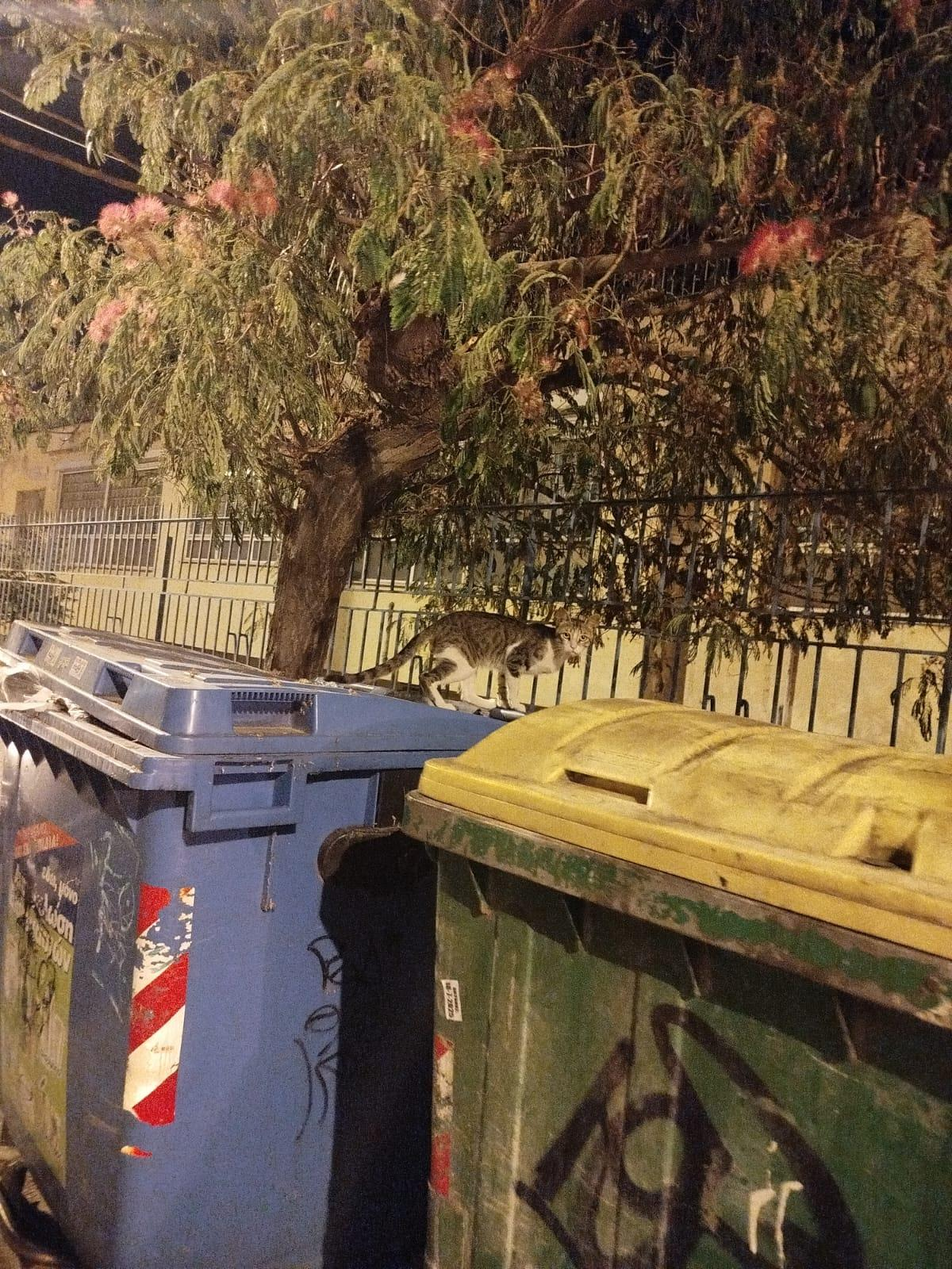macka: (326, 610, 599, 712)
